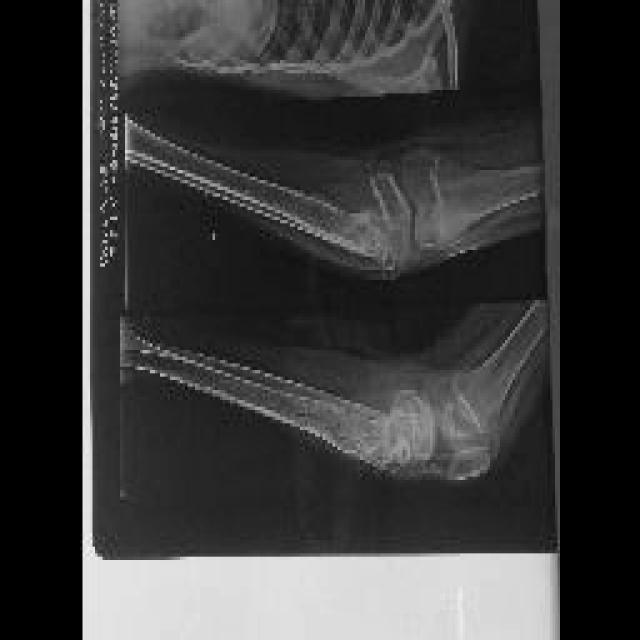bone-cancer: (266, 377, 435, 476), (269, 175, 411, 273)
